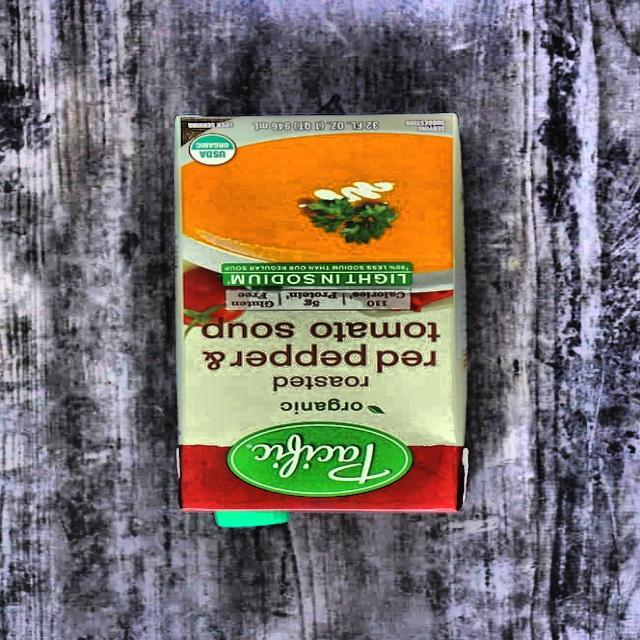cardboard: (174, 113, 471, 516)
